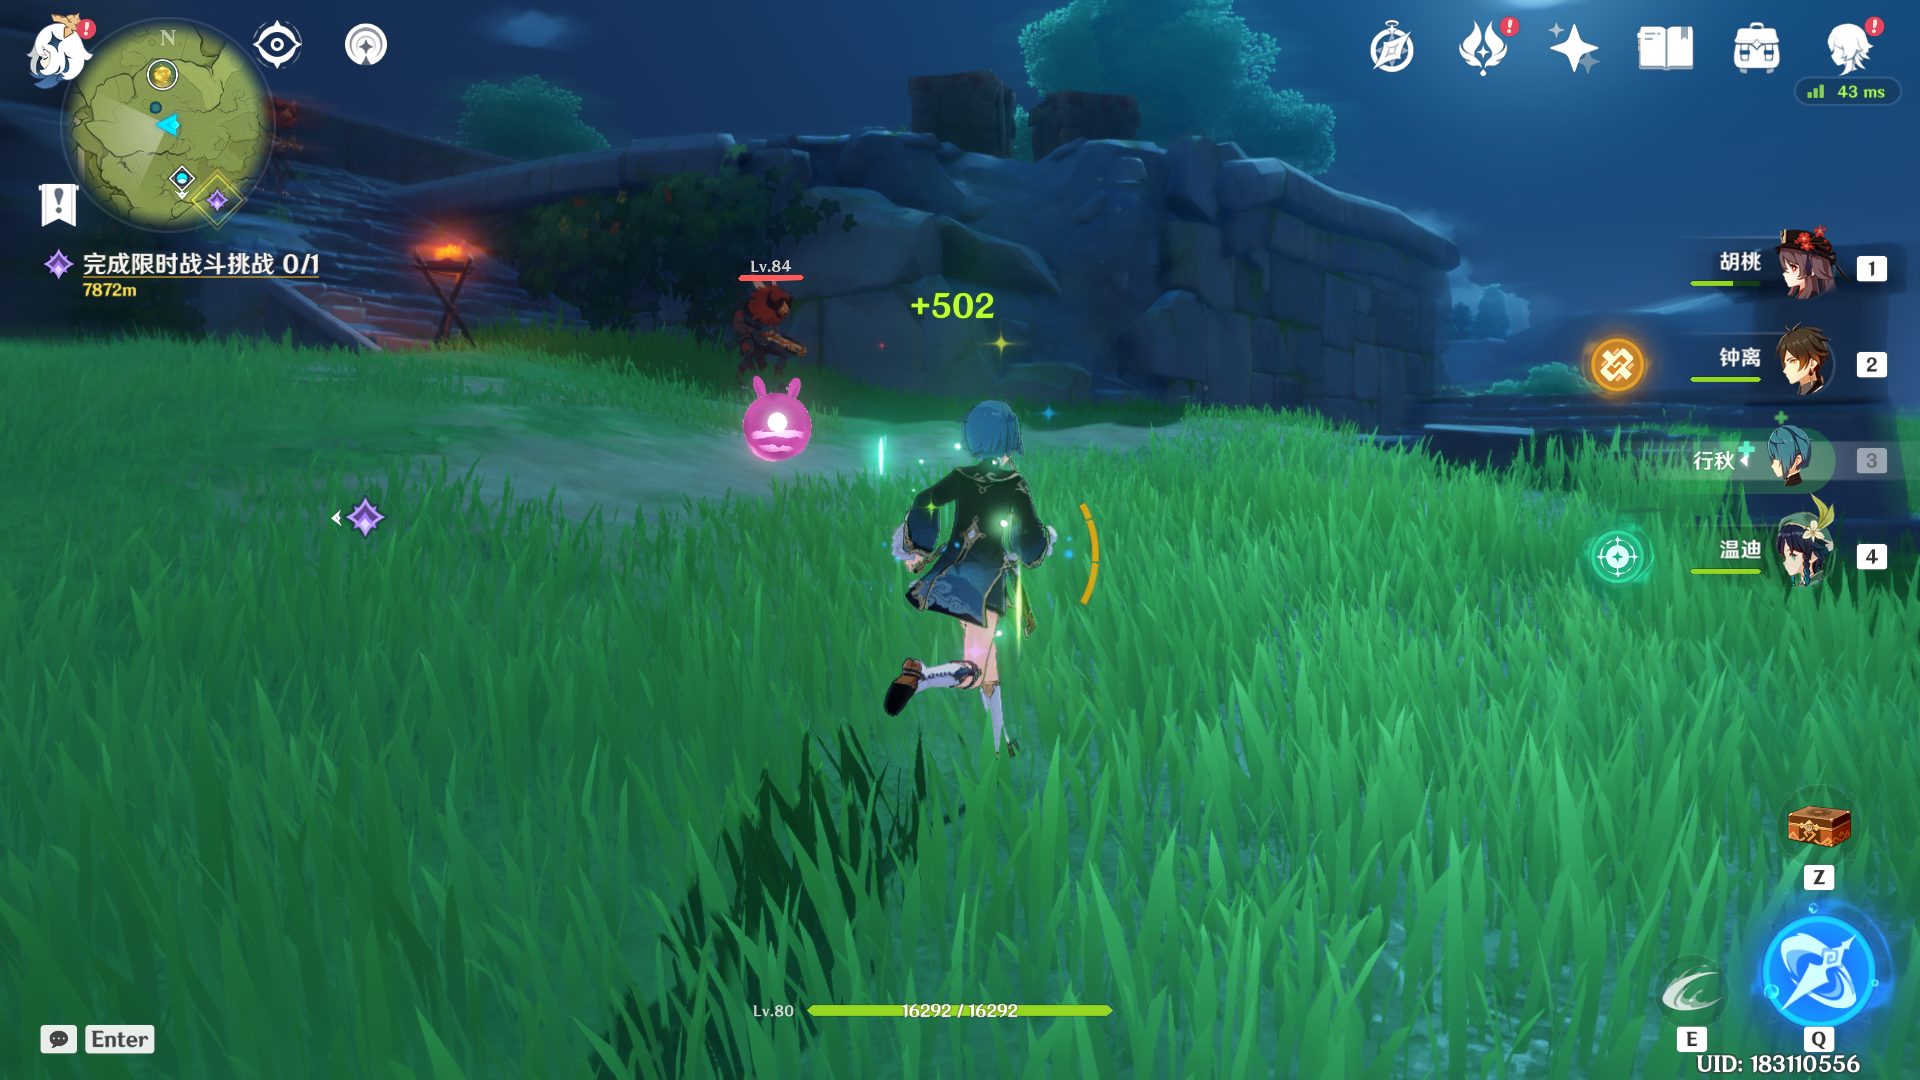hili: (861, 353, 1143, 804), (704, 241, 851, 406)
